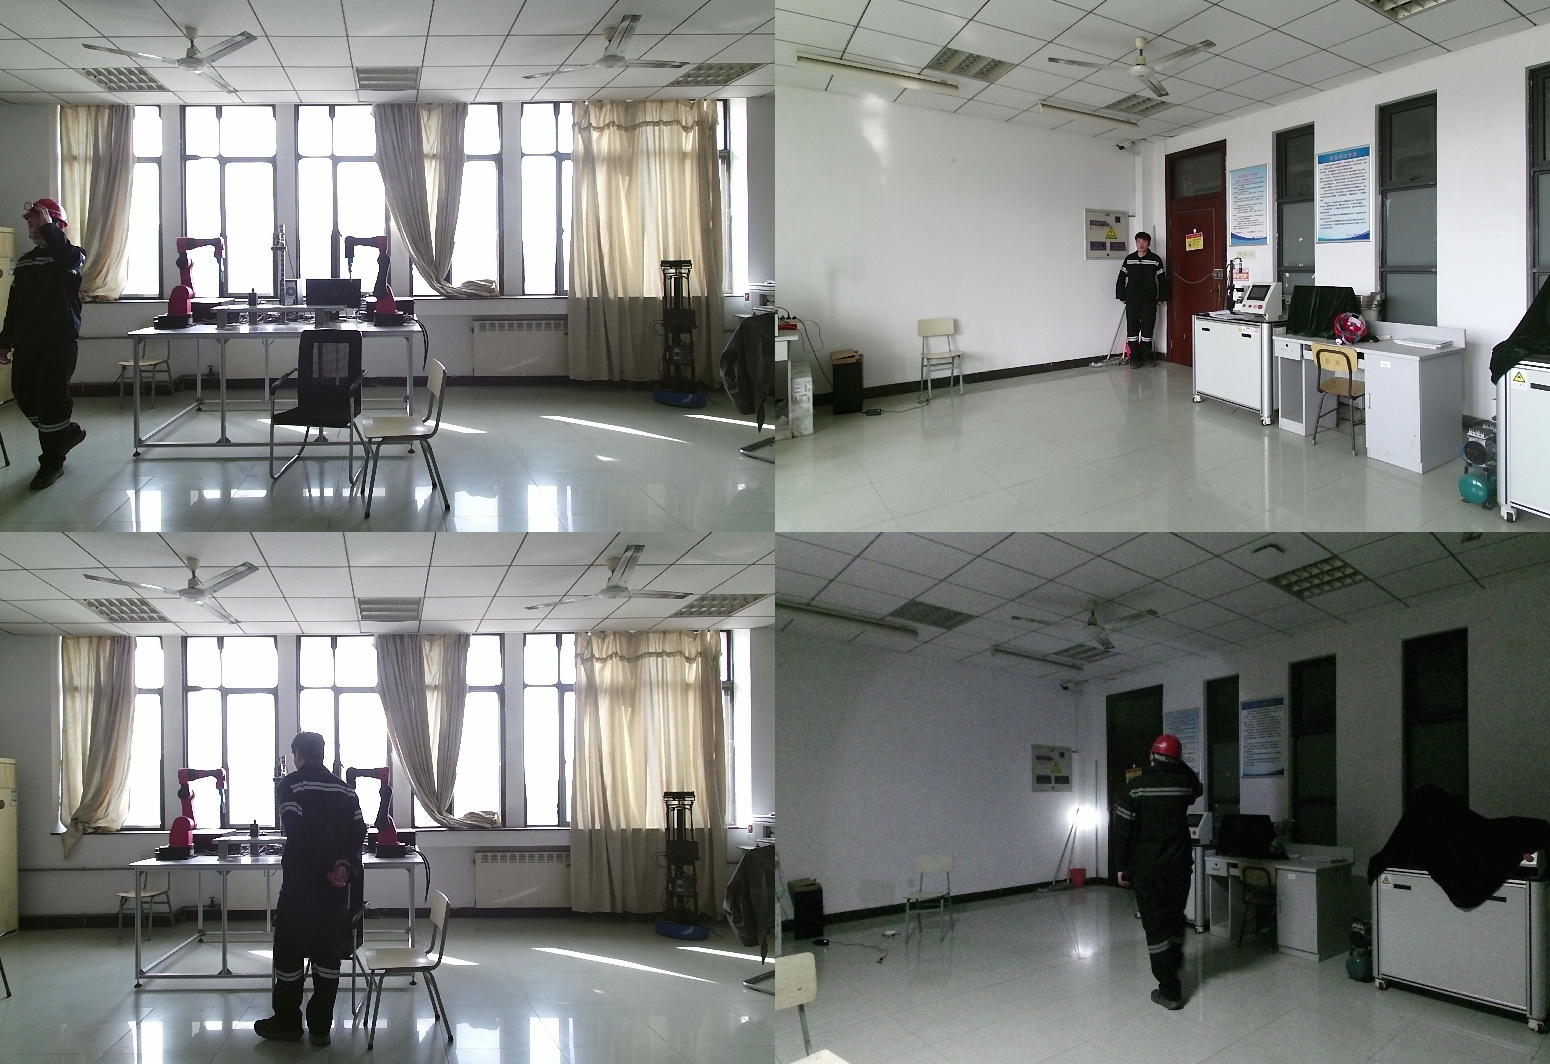person: (255, 734, 369, 1043), (1113, 731, 1215, 1008), (3, 200, 90, 488), (1118, 233, 1171, 370)
